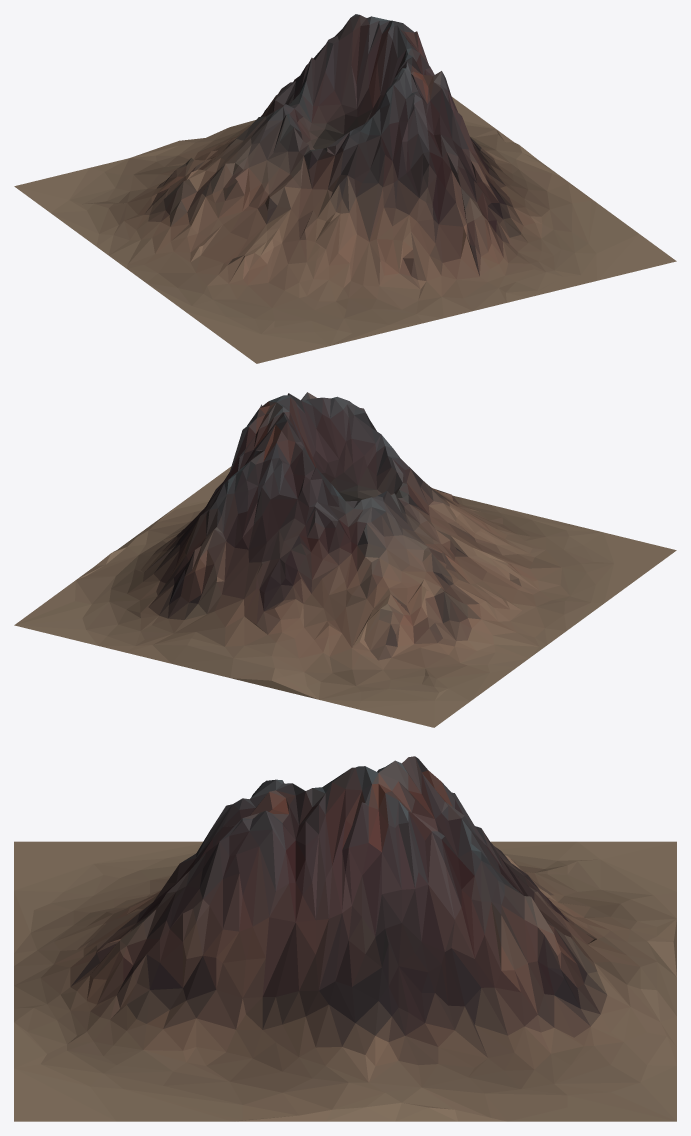
Rendered from Volcanic_B.fbx.
The picture shows the model from 3 angles, top to bottom: view 1: azimuth 30°, elevation 25°; view 2: azimuth 150°, elevation 25°; view 3: azimuth 270°, elevation 25°; orthographic projection. The views are drawn at different scales.
Parts seen in each view (by area): view 1: Volcanic_B; view 2: Volcanic_B; view 3: Volcanic_B.
Part boxes in pixels (left/top/right/bottom): Volcanic_B: left=14, top=14, right=676, bottom=363; Volcanic_B: left=14, top=392, right=676, bottom=727; Volcanic_B: left=14, top=756, right=676, bottom=1121.
Bounding box in the file's own units: 10000 × 4193 × 10000.
